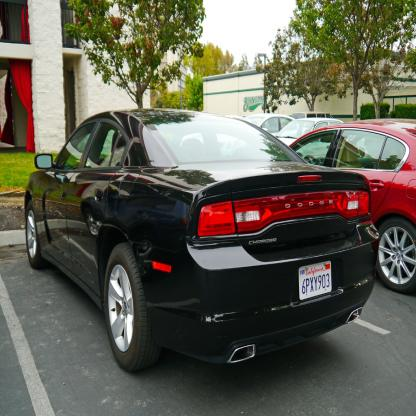Car: (25, 102, 416, 375)
